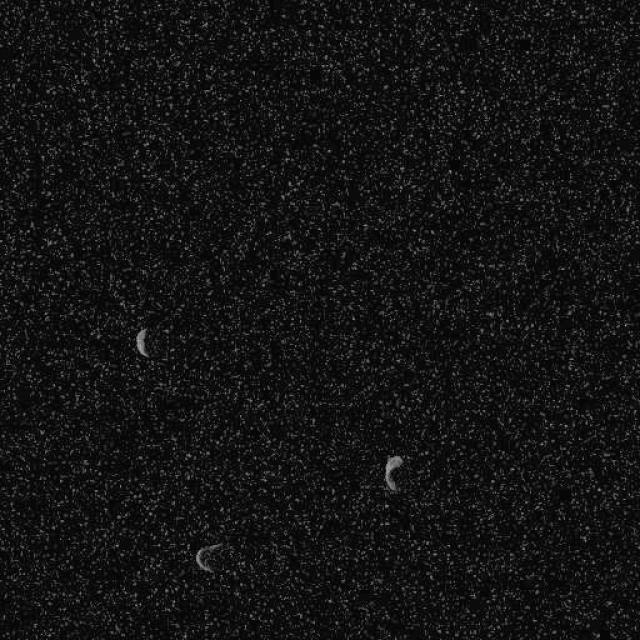D2: (194, 541, 224, 574), (382, 453, 402, 492), (134, 327, 151, 358)
